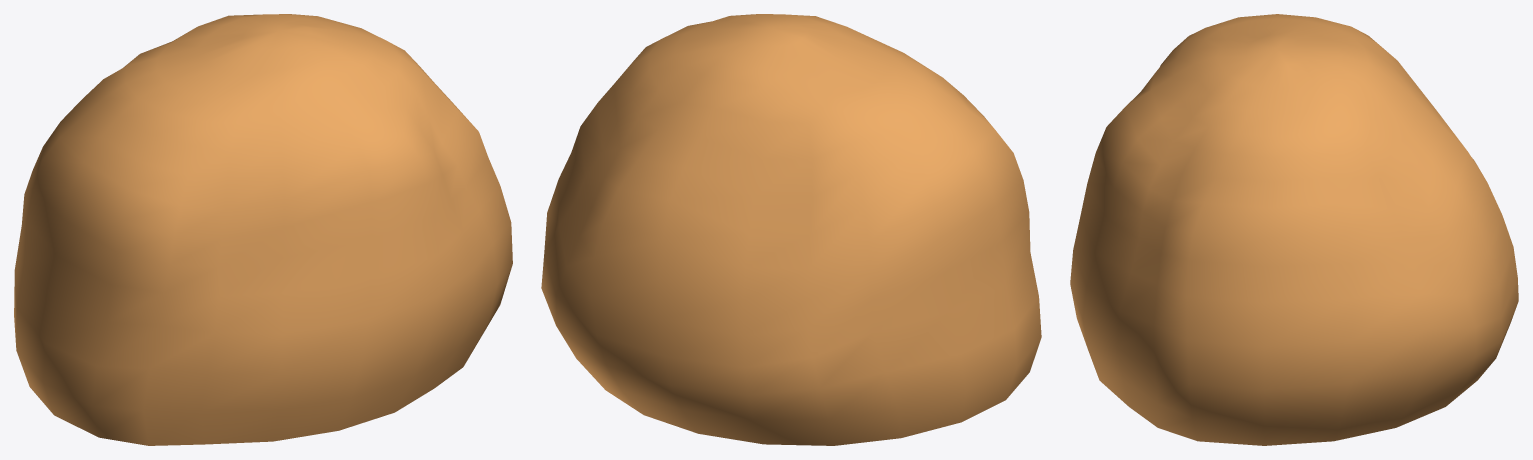
The model's file is Rock2Finished.fbx.
3 renders of one model, left to right at view 1: azimuth 30°, elevation 25°; view 2: azimuth 150°, elevation 25°; view 3: azimuth 270°, elevation 25°, orthographic.
Parts seen in each view (by area): view 1: pSphere2; view 2: pSphere2; view 3: pSphere2.
Part boxes in pixels (x1,y1,x2,y2): pSphere2: [14, 14, 512, 445]; pSphere2: [541, 14, 1041, 445]; pSphere2: [1070, 14, 1518, 445].
Size of the model in its own units: 210 by 146 by 185.
